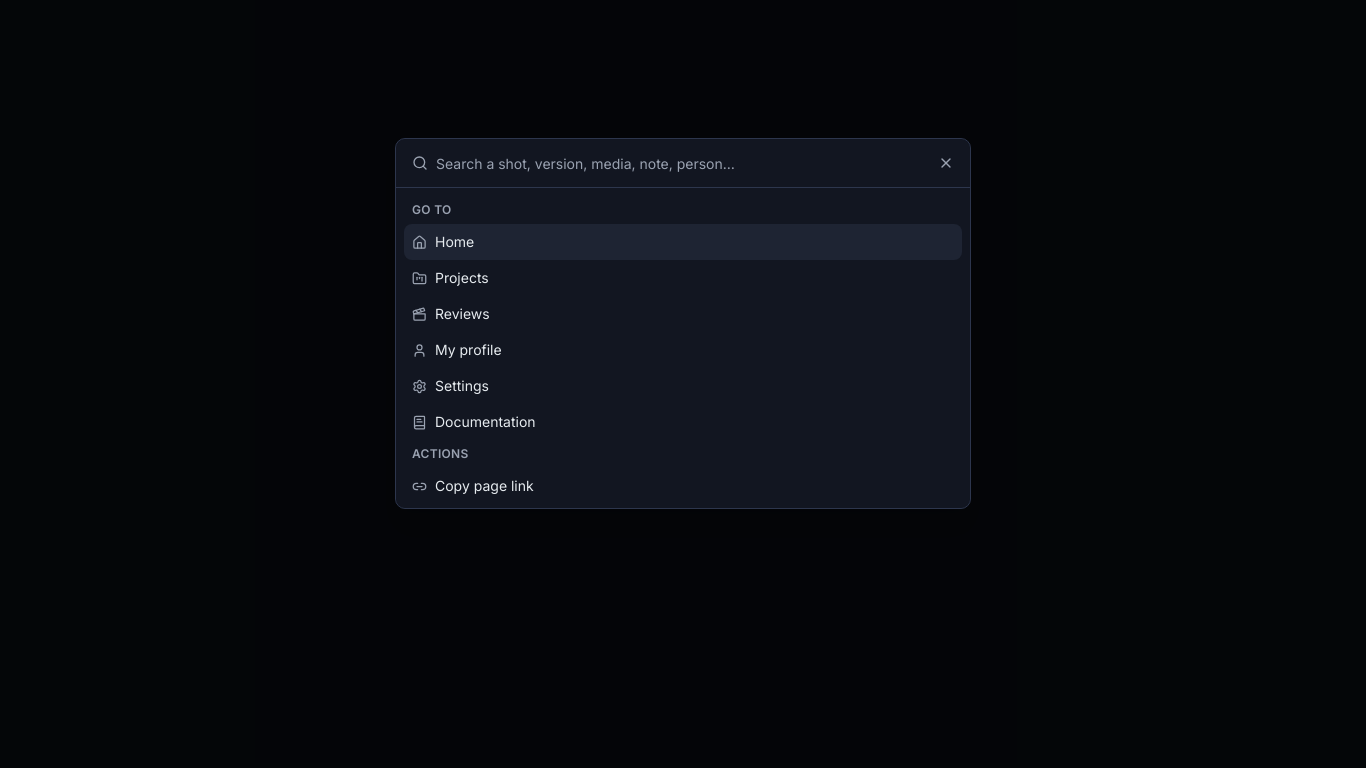
Scenario: CommandPalette — what one really searches for › finds a version by its number
Type "v012" into the dropdown with placeholder "Search a shot, version, media, note, person…". click: (695, 163)
box: [436,139,954,187]
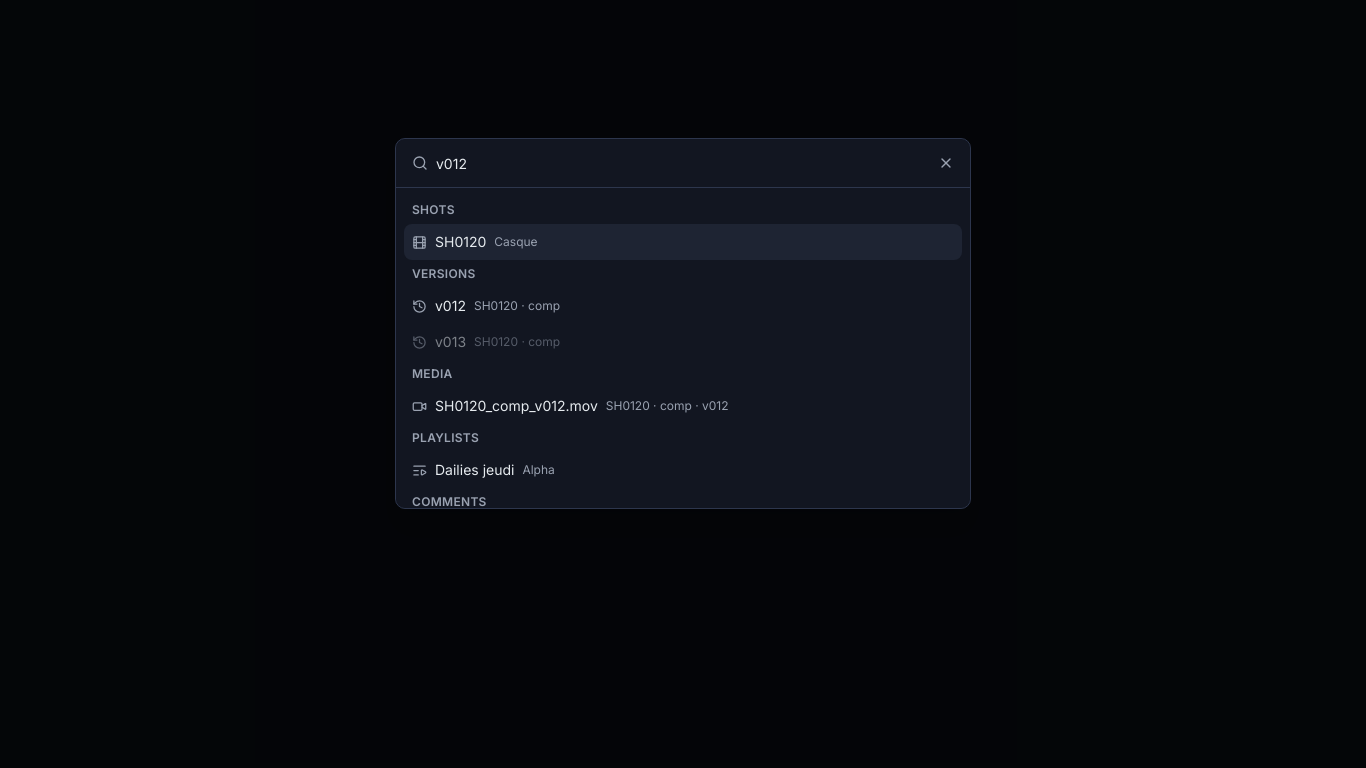
Expected: the text "v012" is shown, [435,296,466,316]
